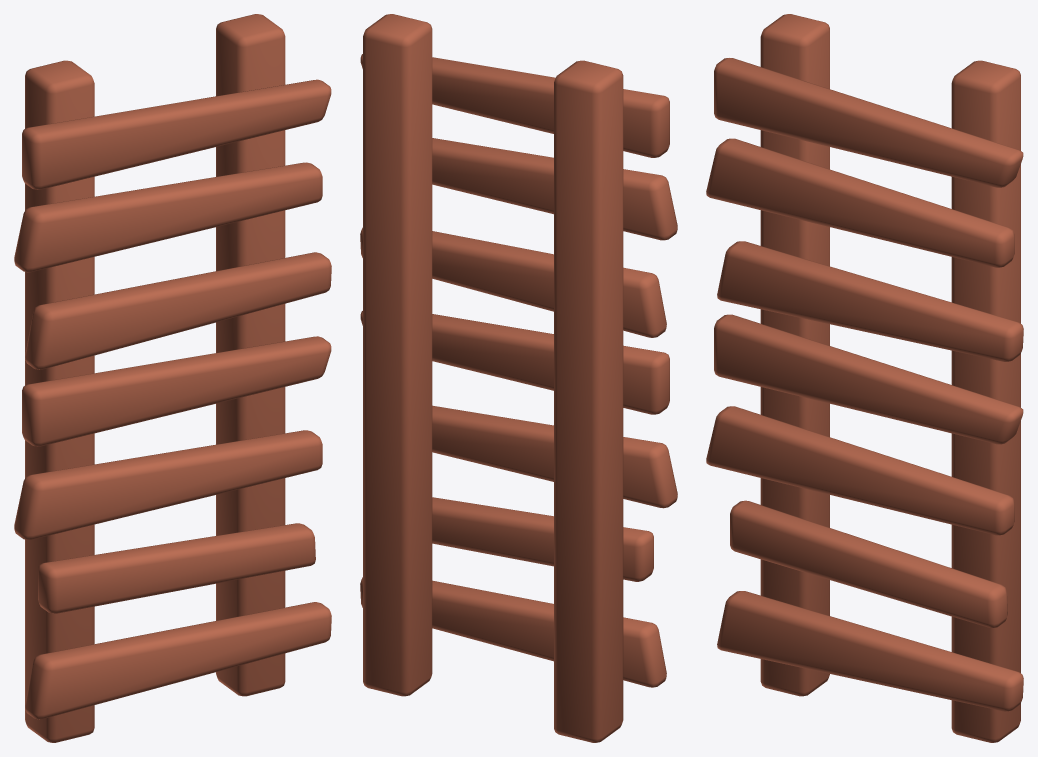
File: stair.fbx
3 renders of one model, left to right at view 1: azimuth 30°, elevation 25°; view 2: azimuth 150°, elevation 25°; view 3: azimuth 330°, elevation 25°, orthographic.
Visible parts, largest first — view 1: stair; view 2: stair; view 3: stair.
Boxes of the visible parts, x1=… form: stair: x1=14, y1=14, x2=331, y2=742; stair: x1=360, y1=14, x2=677, y2=742; stair: x1=706, y1=14, x2=1023, y2=742.
Bounding box in the file's own units: 88.62 × 181 × 21.7.
